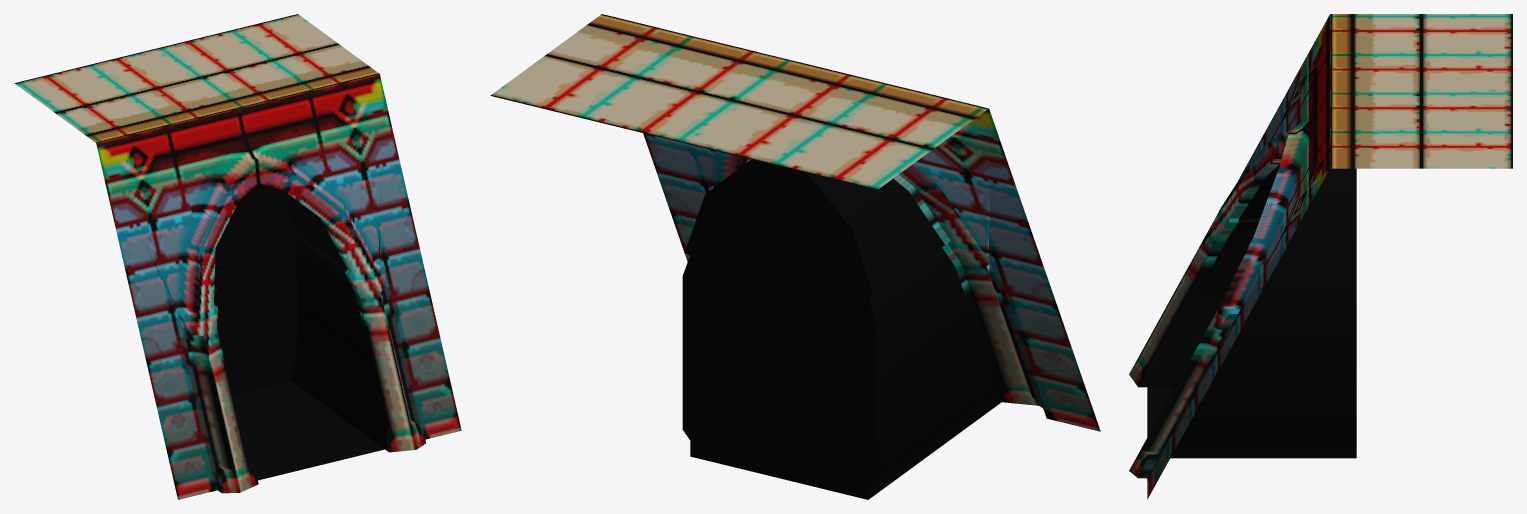
The model's file is arch_cathedral_wall_door.FBX.
3 views of the same model, side by side, from view 1: azimuth 30°, elevation 25°; view 2: azimuth 150°, elevation 25°; view 3: azimuth 270°, elevation 25° (orthographic). The views are drawn at different scales.
Parts seen in each view (by area): view 1: arch_cathedral_wall_door; view 2: arch_cathedral_wall_door; view 3: arch_cathedral_wall_door.
Part boxes in pixels (x1,y1,x2,y2): arch_cathedral_wall_door: [14, 14, 461, 499]; arch_cathedral_wall_door: [490, 14, 1100, 499]; arch_cathedral_wall_door: [1129, 14, 1512, 499].
Bounding box in the file's own units: 4 × 4 × 4.2.
Materials: 1 (1 with a texture image).
